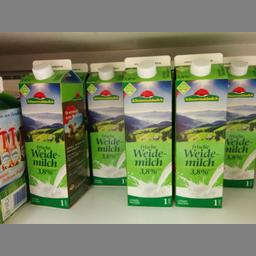milk: (17, 57, 89, 208), (172, 49, 226, 209), (120, 54, 175, 207), (84, 60, 124, 188), (223, 57, 255, 190)
